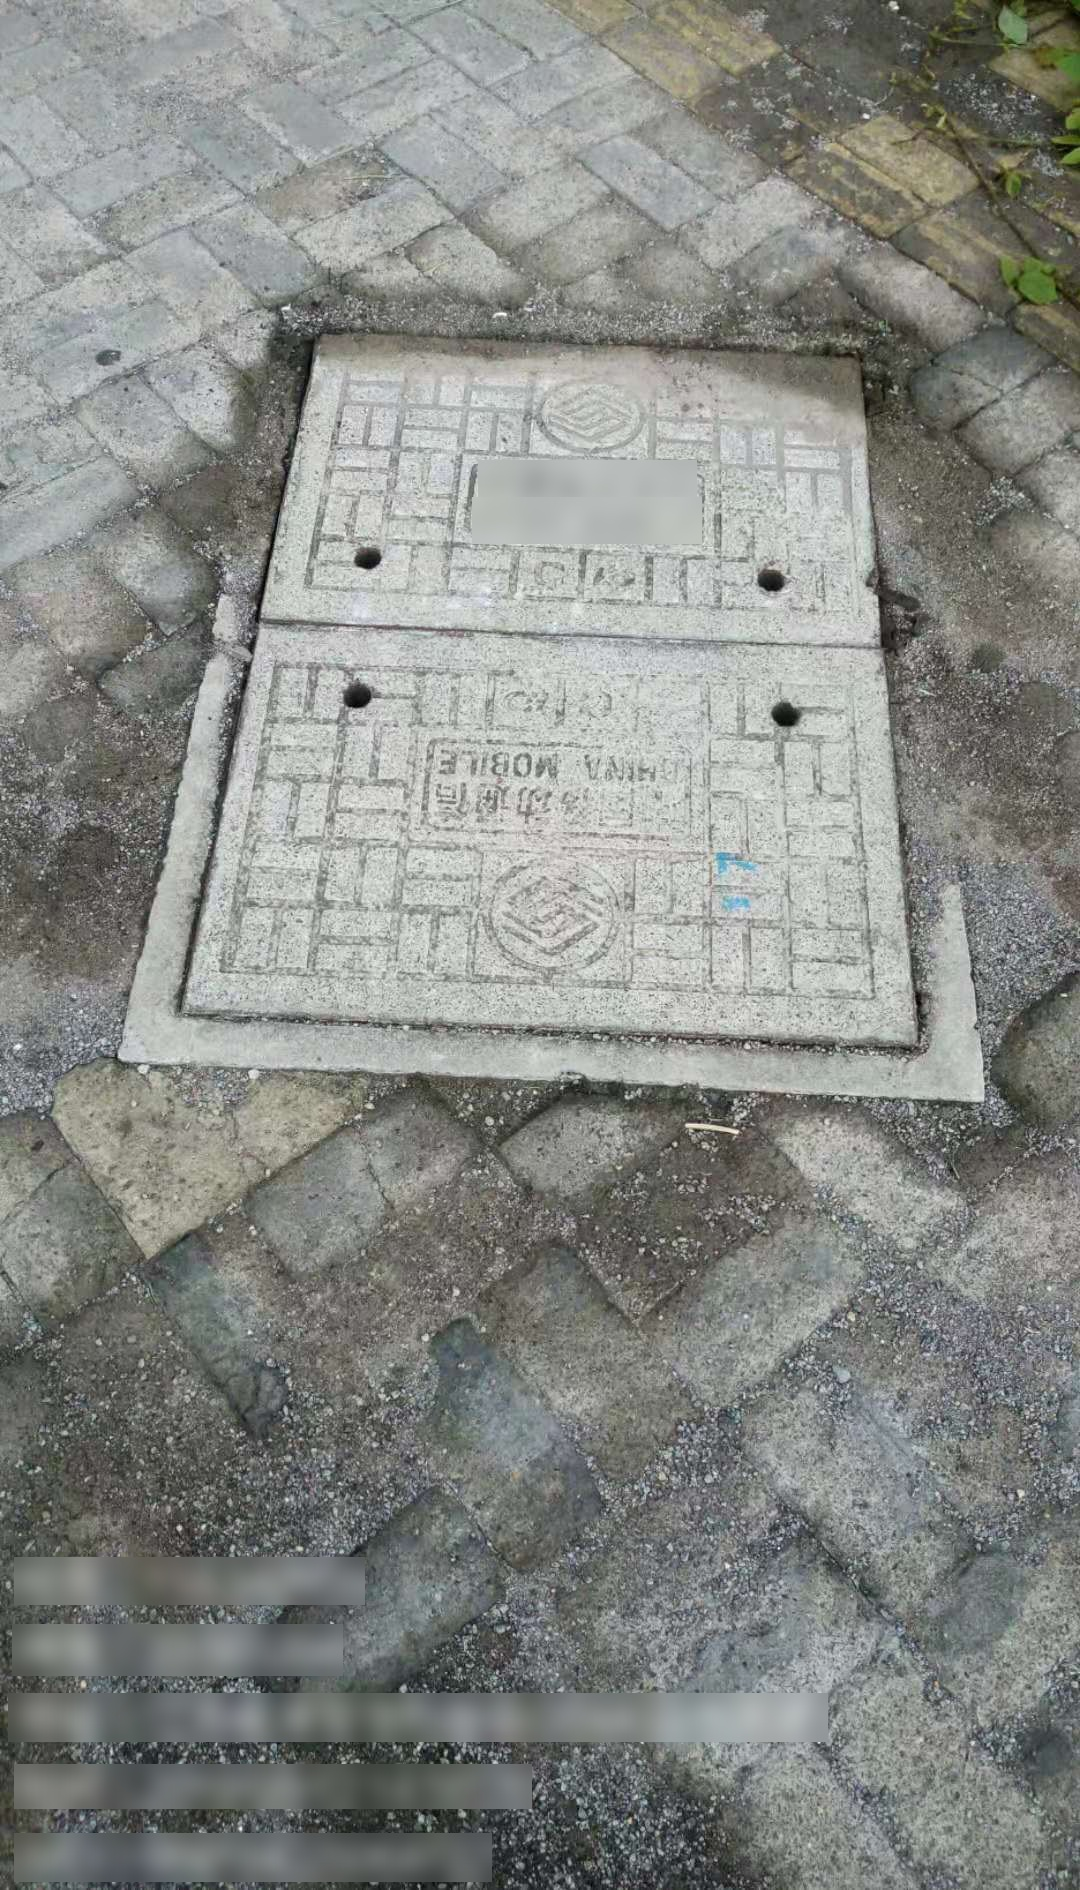good: (118, 292, 984, 1107)
